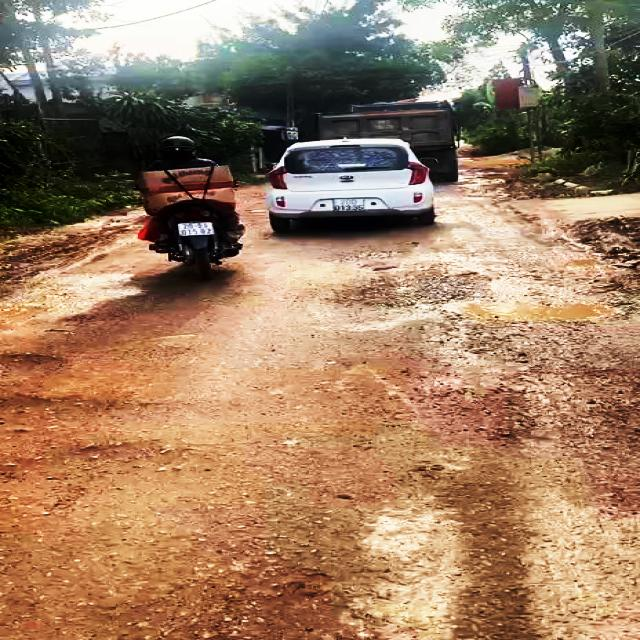pothole: (363, 276, 640, 329), (0, 437, 207, 504), (0, 392, 189, 430), (0, 353, 98, 383)
